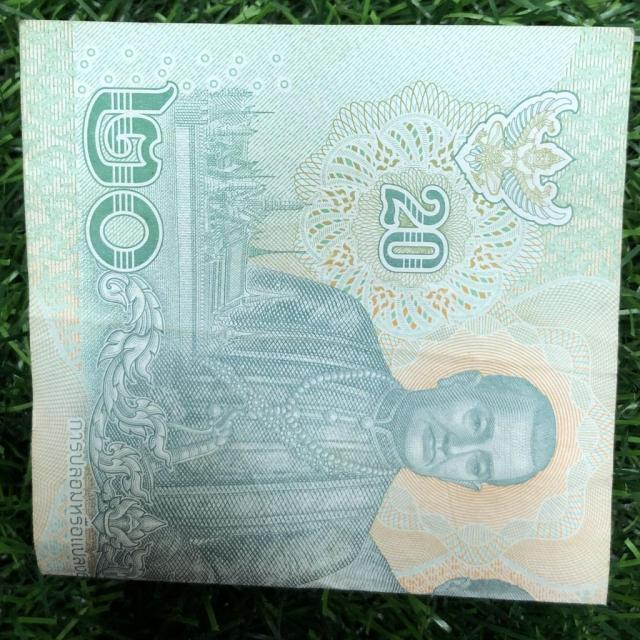THAI20: (21, 21, 632, 602)
